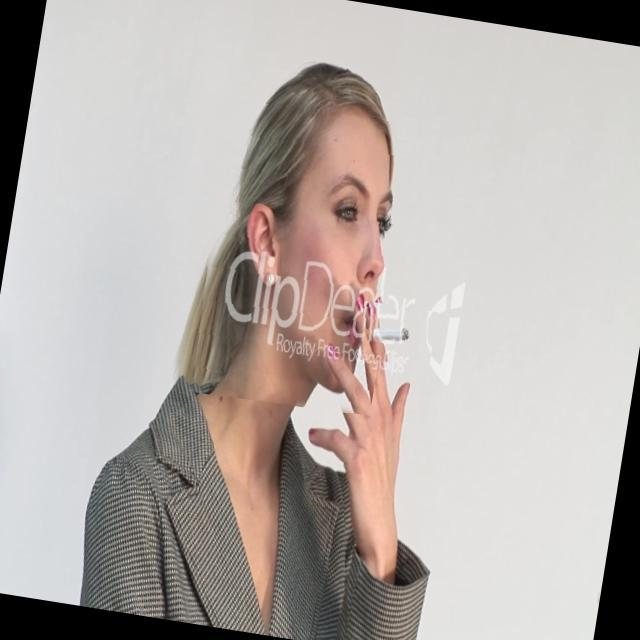cigarette: (356, 300, 438, 370)
